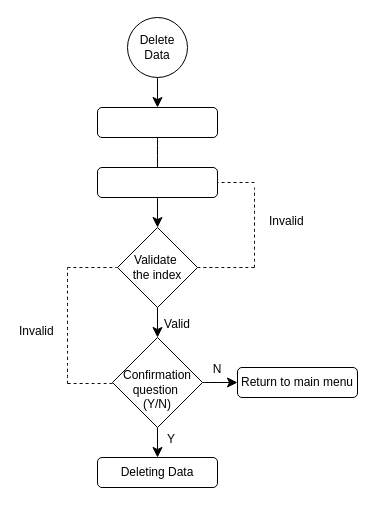
Some shapes in this 375 by 505 pixel diagram are drawn without their labels. The box of each missing label's shape, as (x1, y1, x2, y2) in pixels:
Display List of Data: (96, 106, 218, 138)
User input the index: (96, 166, 218, 198)
